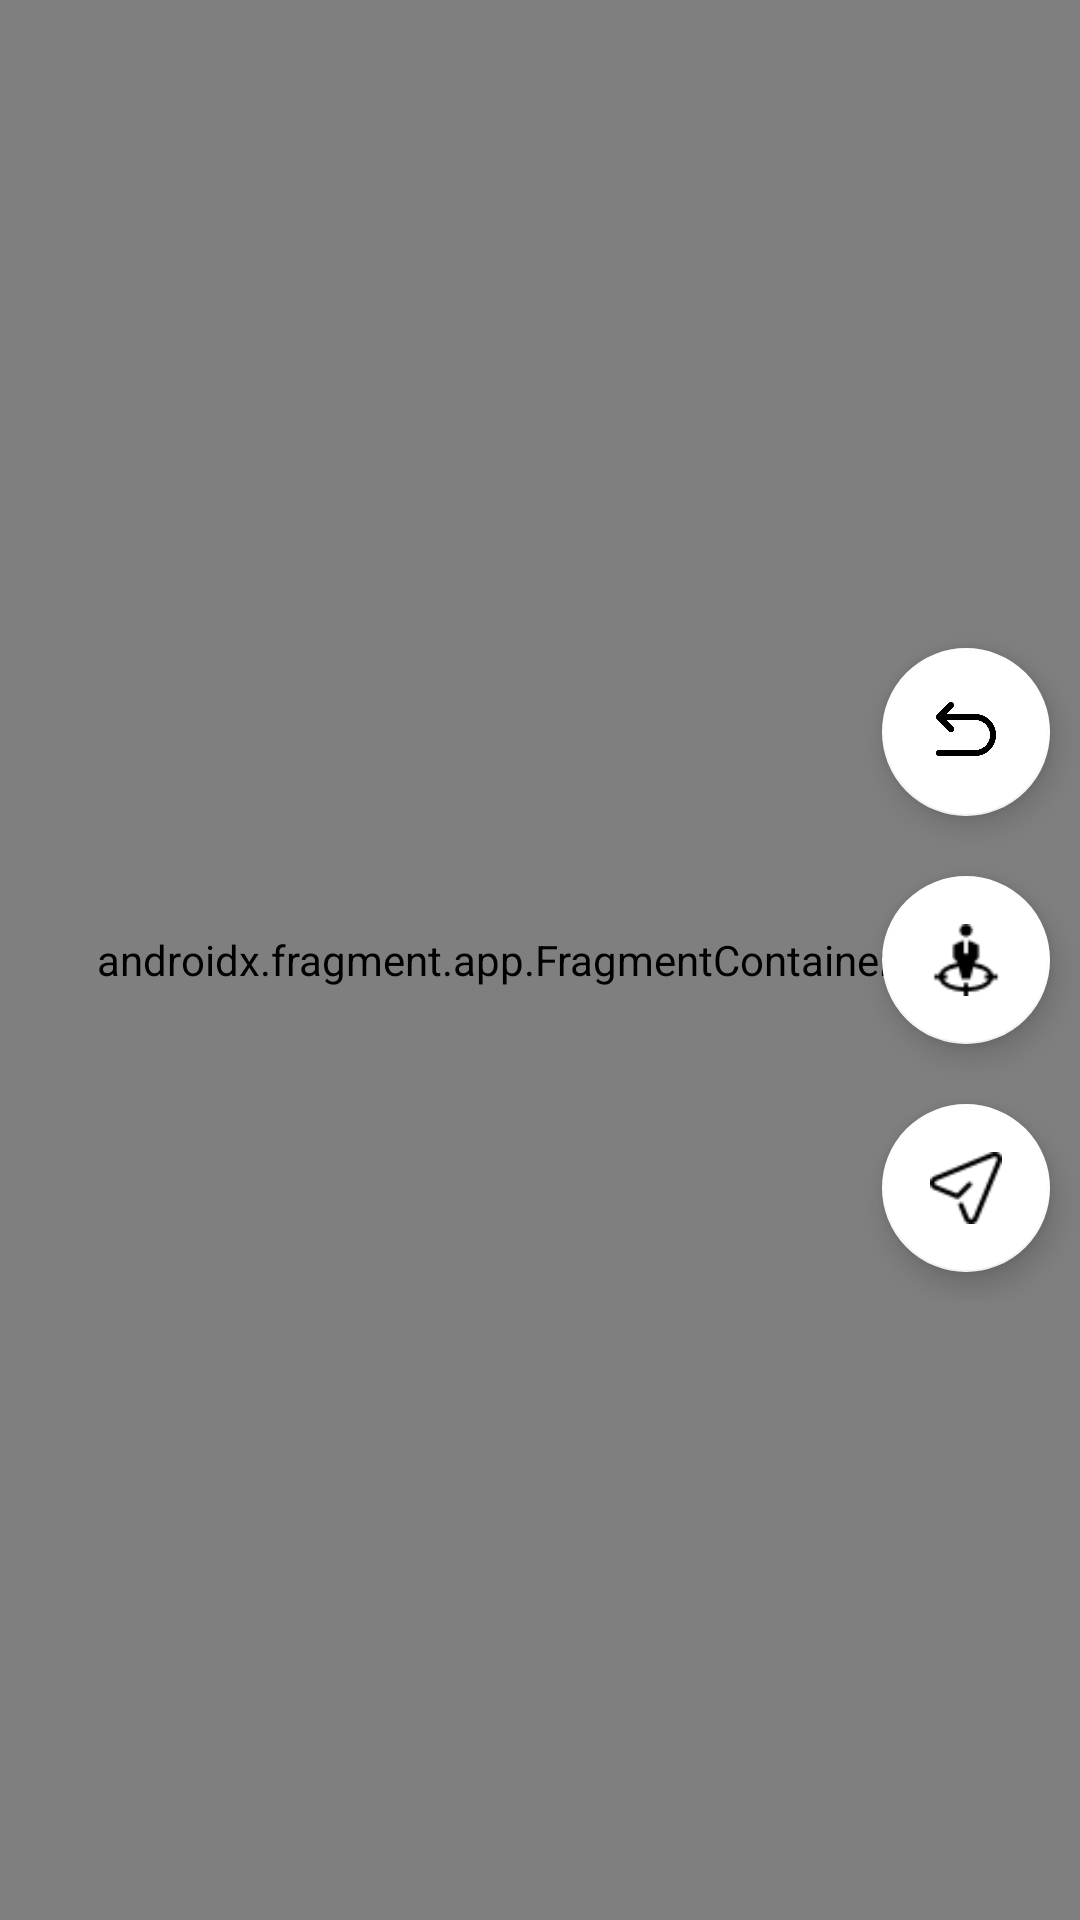

Screen size 1080w x 1920h. Icon name, then its center in pixels as point (x, y):
Back: point (966, 732)
Send: point (966, 1188)
